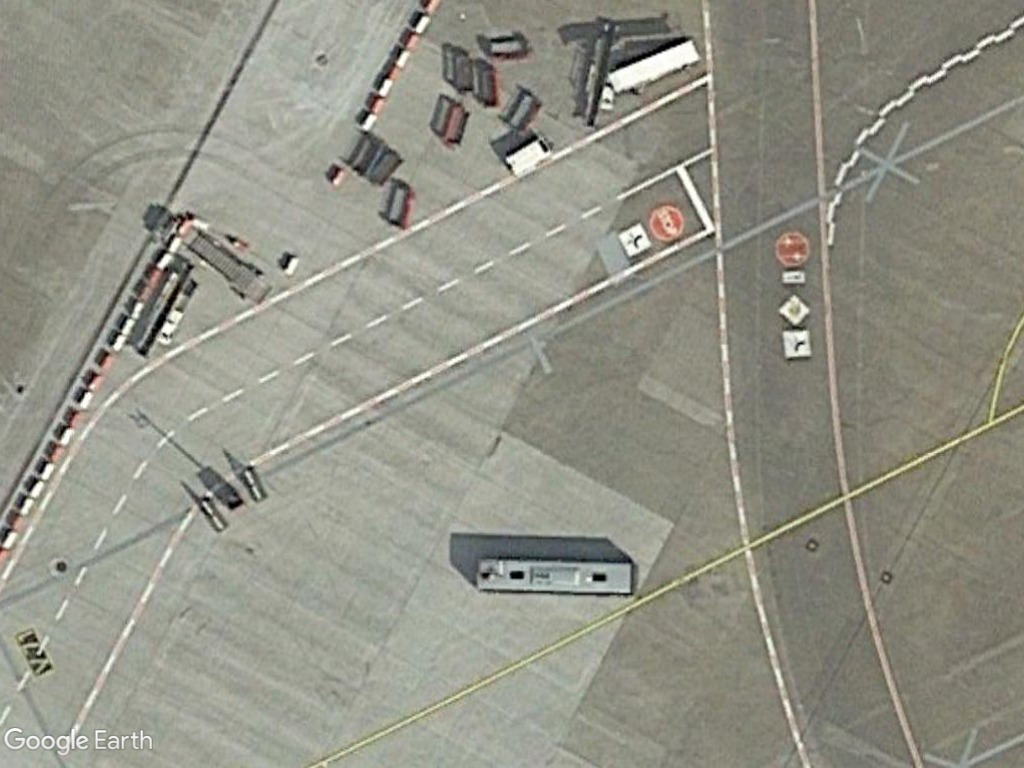bus: (469, 555, 645, 599)
